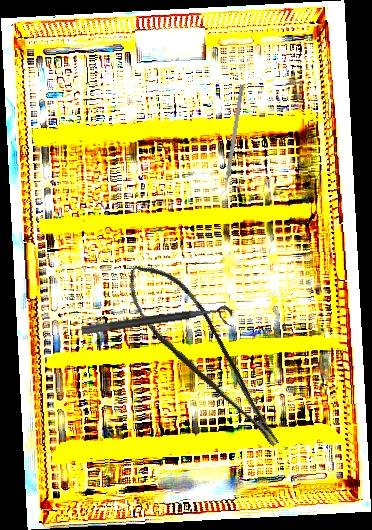Chopper: (216, 83, 245, 197)
Fixation Ring: (81, 304, 234, 348)
Micro Scissor: (115, 247, 287, 471)
